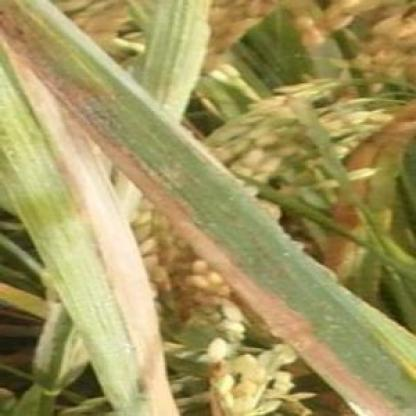Blight: (1, 1, 416, 416), (1, 38, 184, 416)
